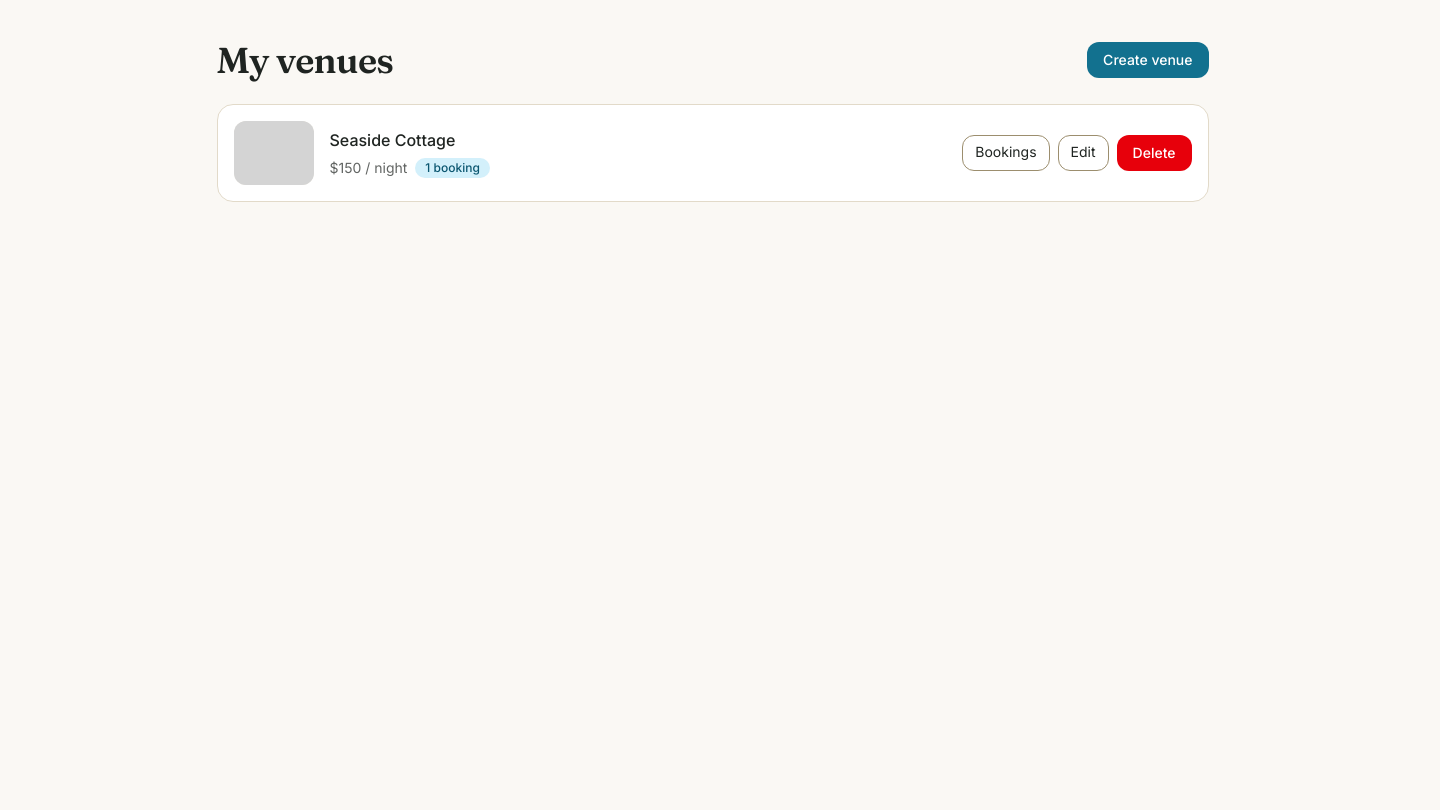
Test case: ManagerVenuesPage › asks for confirmation before deleting, then removes the row
This screenshot has width=1440, height=810.
Click the button "Delete".
click(1154, 153)  # box x1=1117 y1=135 x2=1192 y2=171
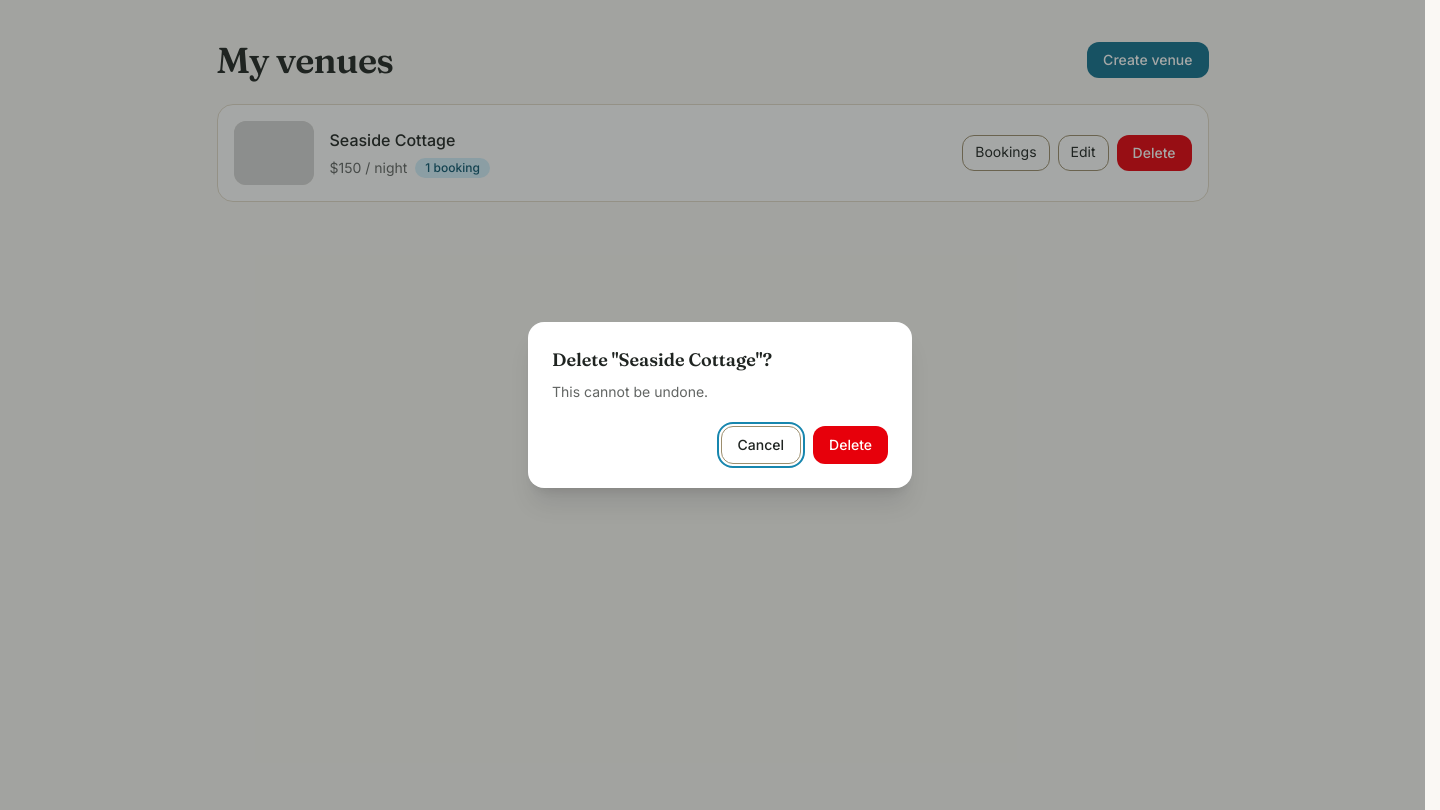
Click the button "Delete".
click(851, 445)  # box x1=813 y1=426 x2=888 y2=464
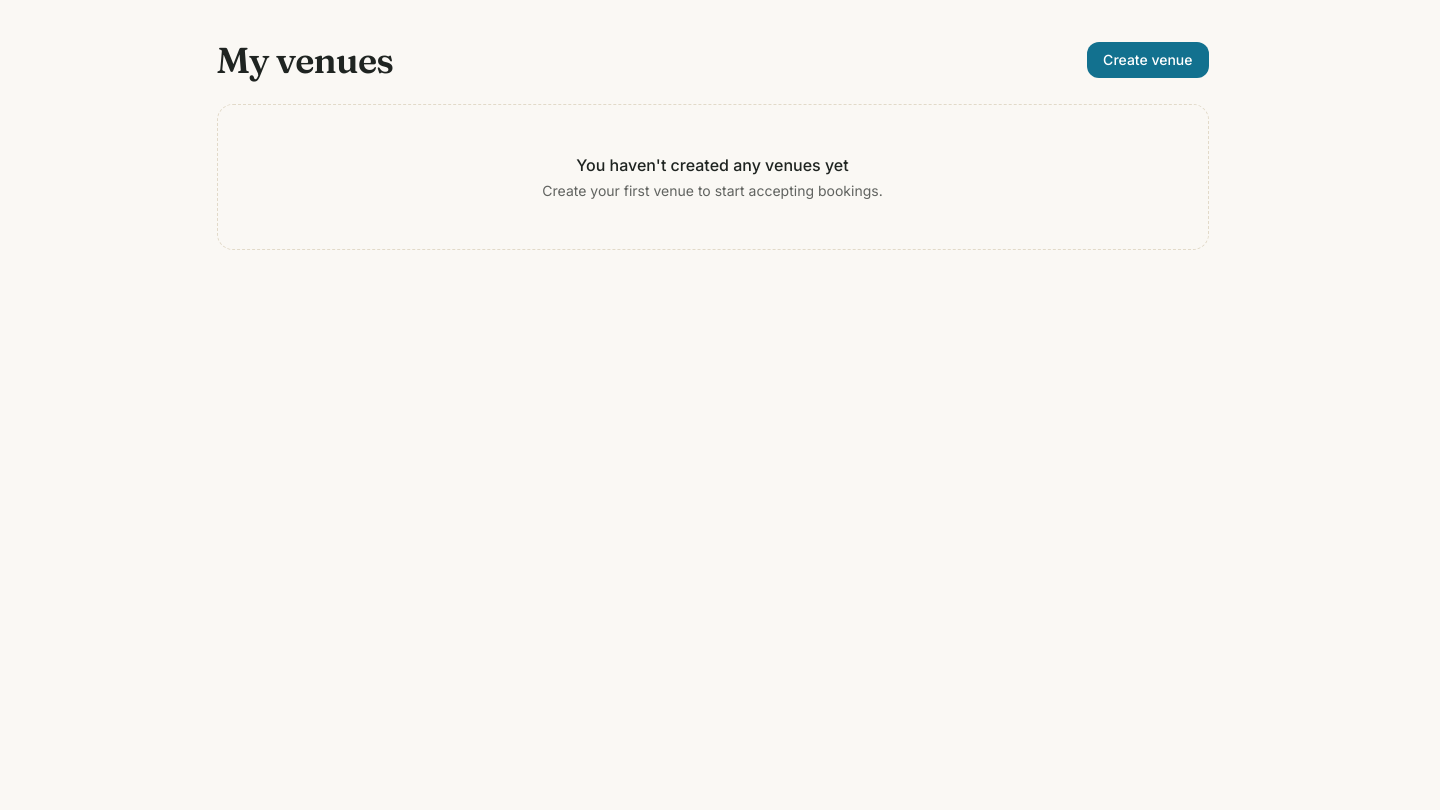
Expected: the text "You haven't created any venues yet" is shown, x1=576 y1=155 x2=849 y2=175
Expected: the link "Seaside Cottage" is gone
